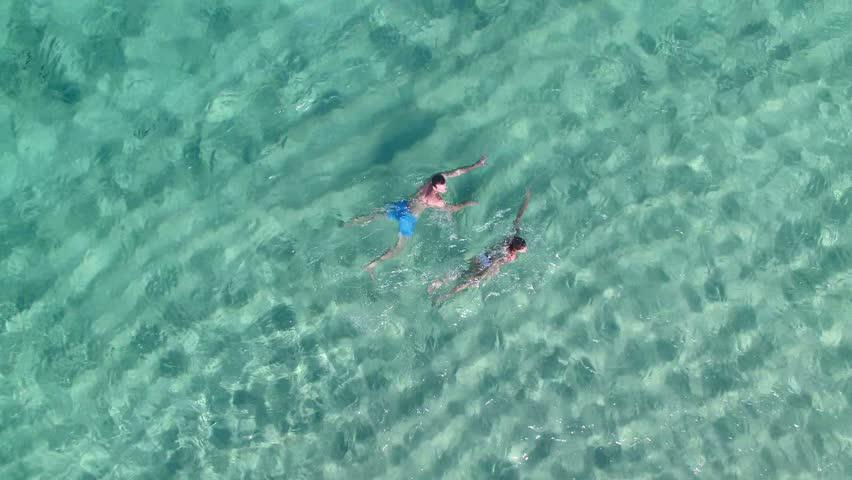human: (360, 155, 494, 276), (426, 191, 531, 300)
